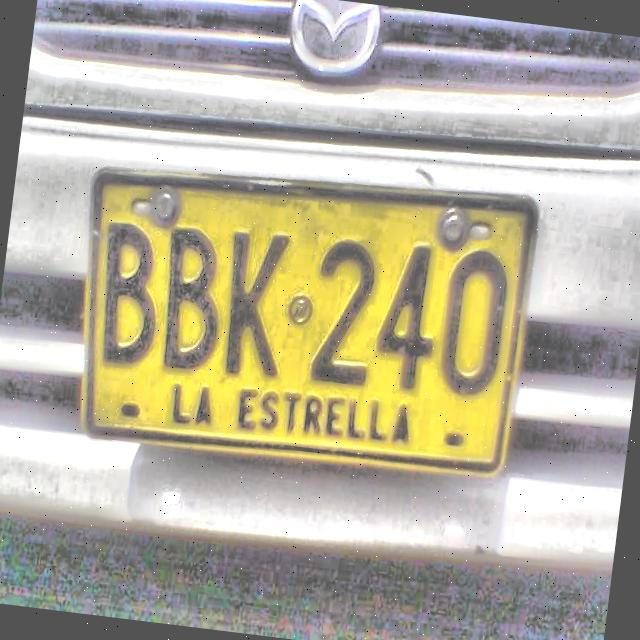plate: (79, 167, 538, 479)
